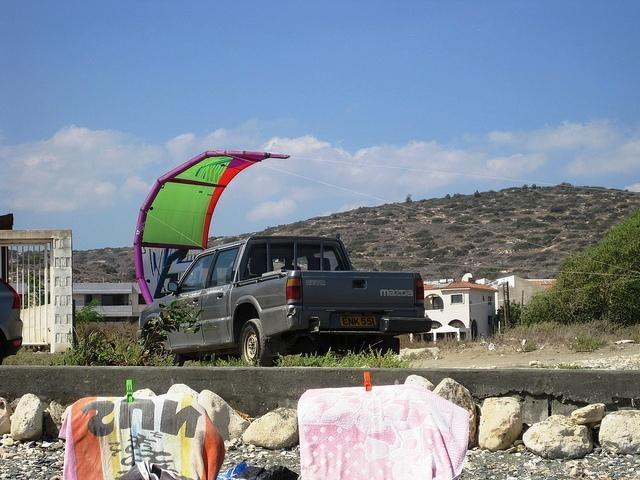car: (0, 276, 22, 364)
truck: (142, 237, 434, 368)
